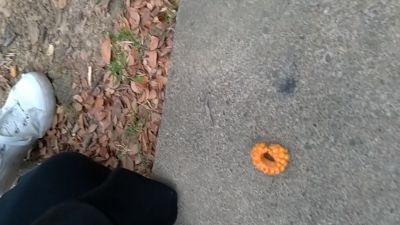eggs: (251, 141, 289, 175)
